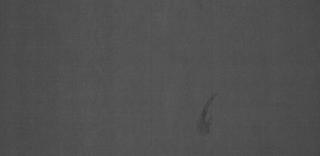water spot: (190, 92, 223, 140)
